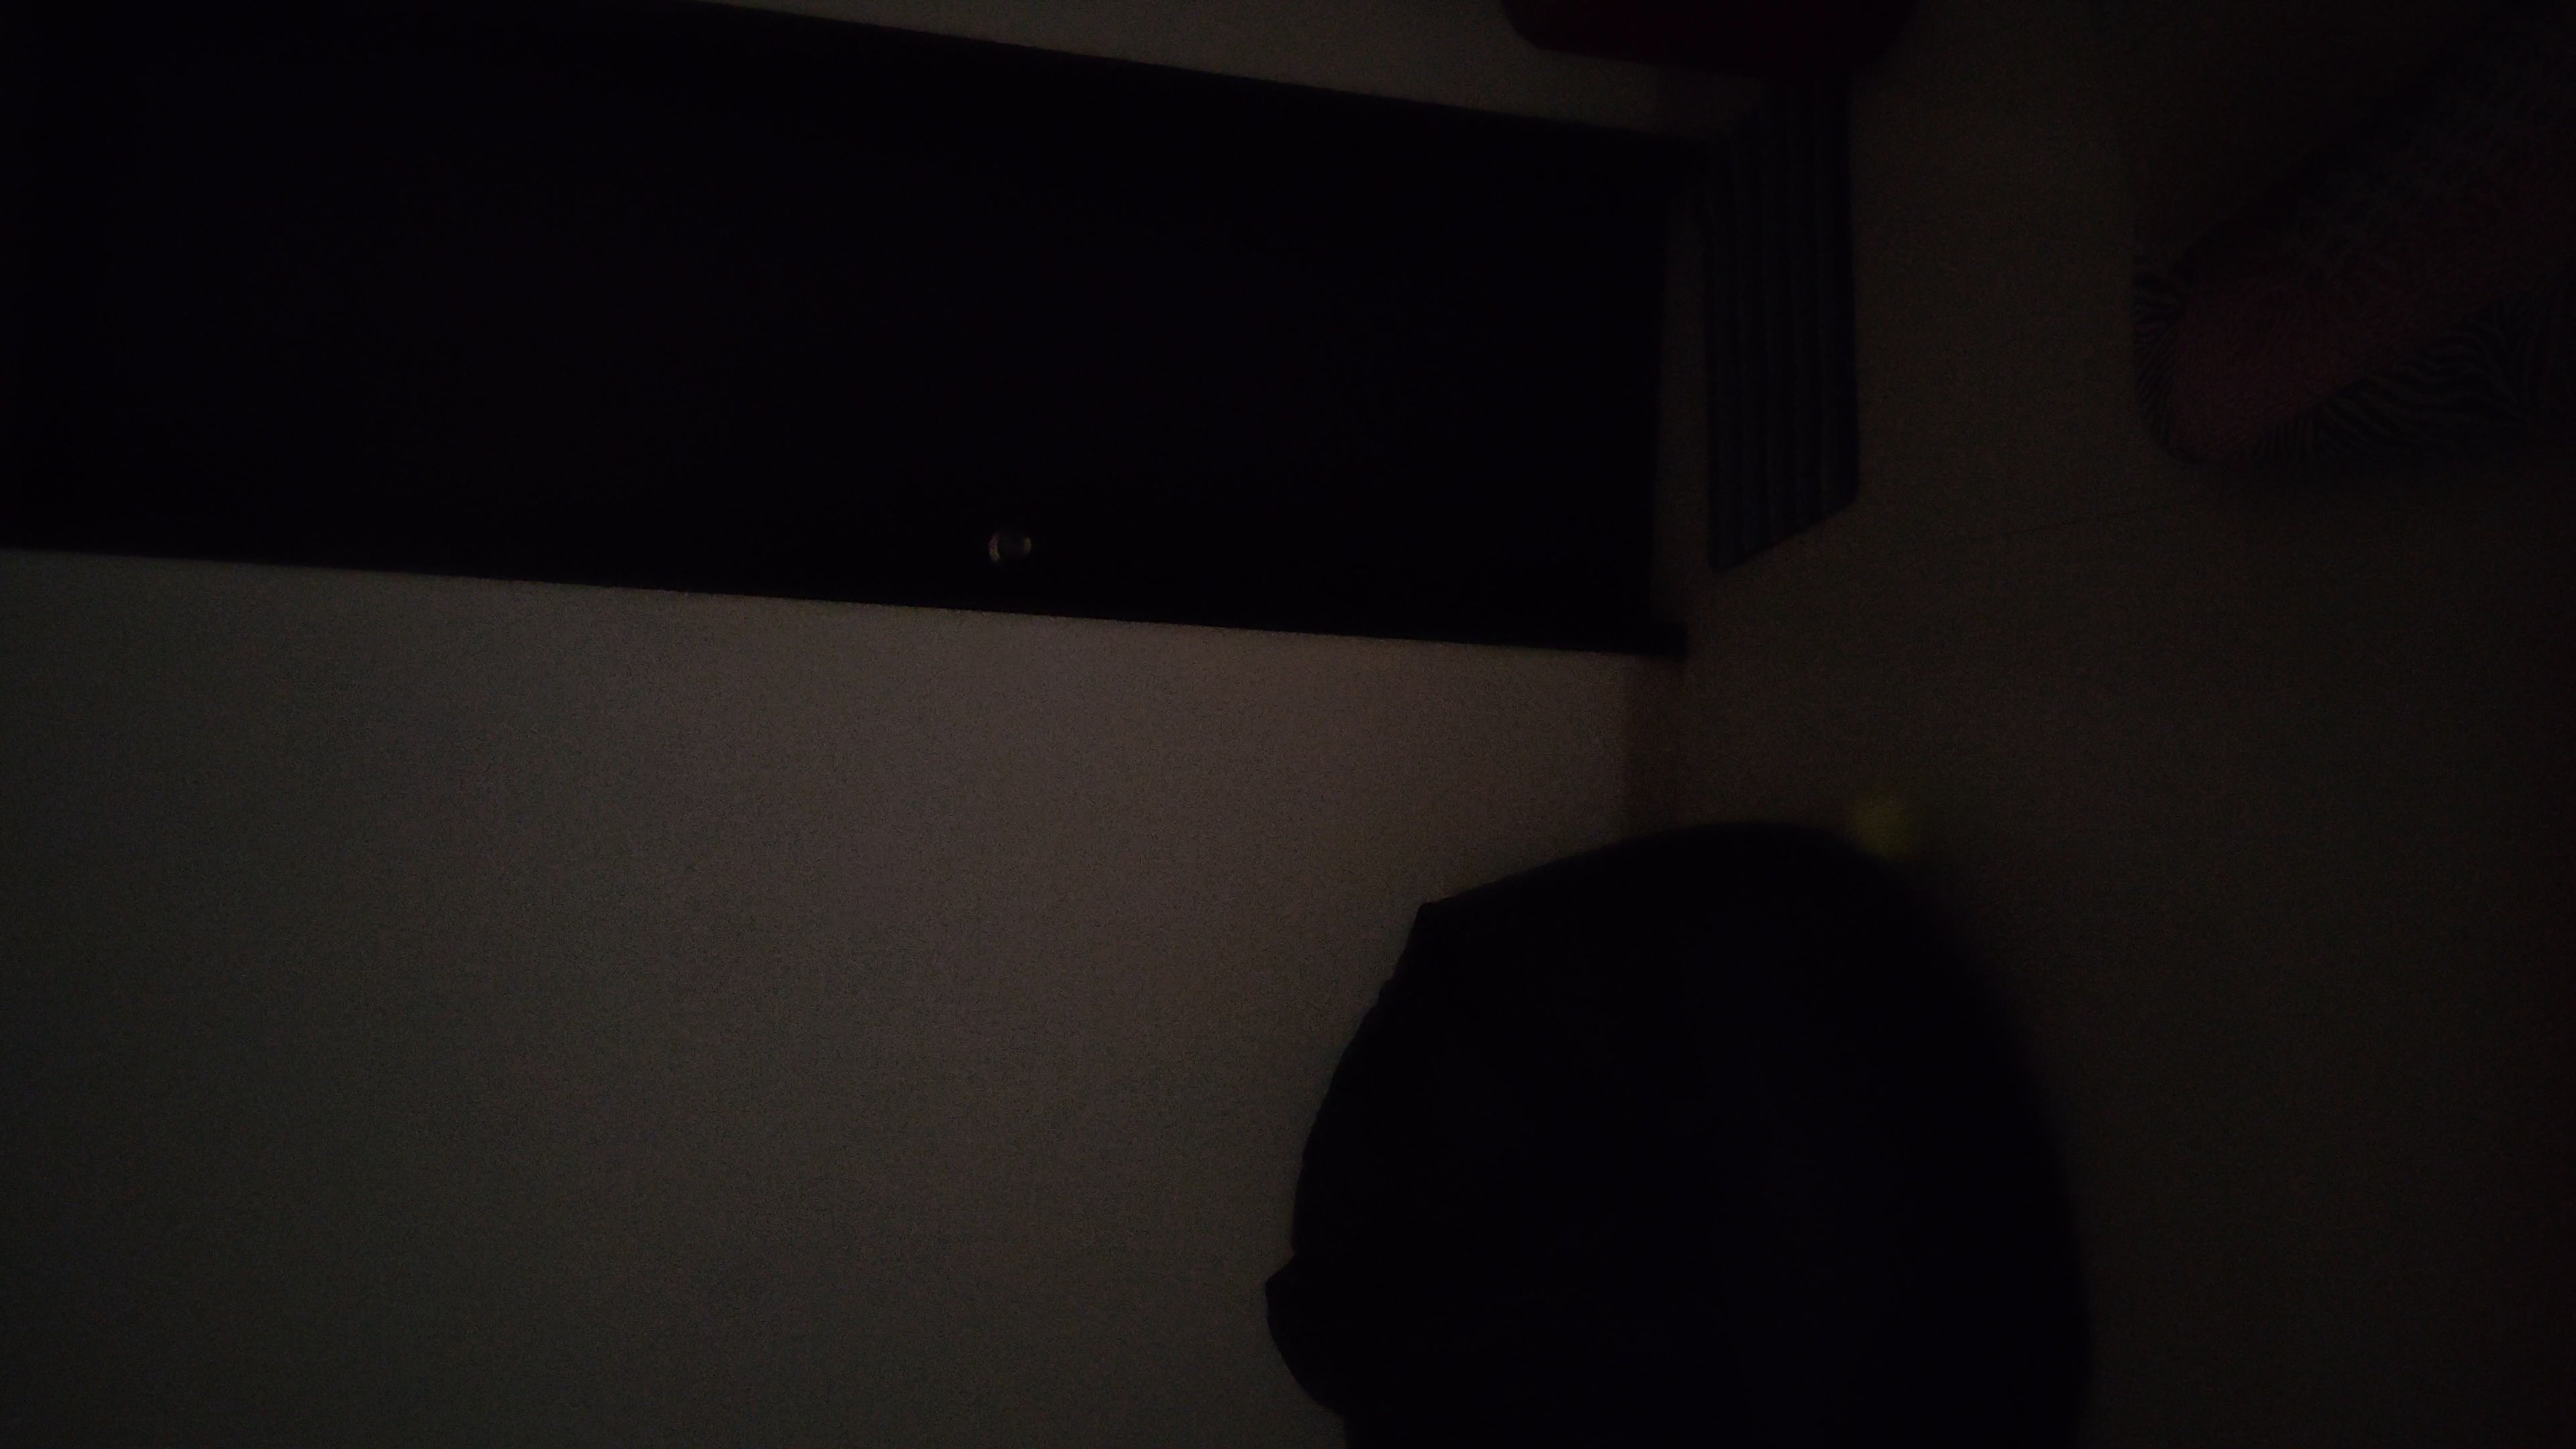Tennis-Ball: (1847, 793, 1921, 863)
